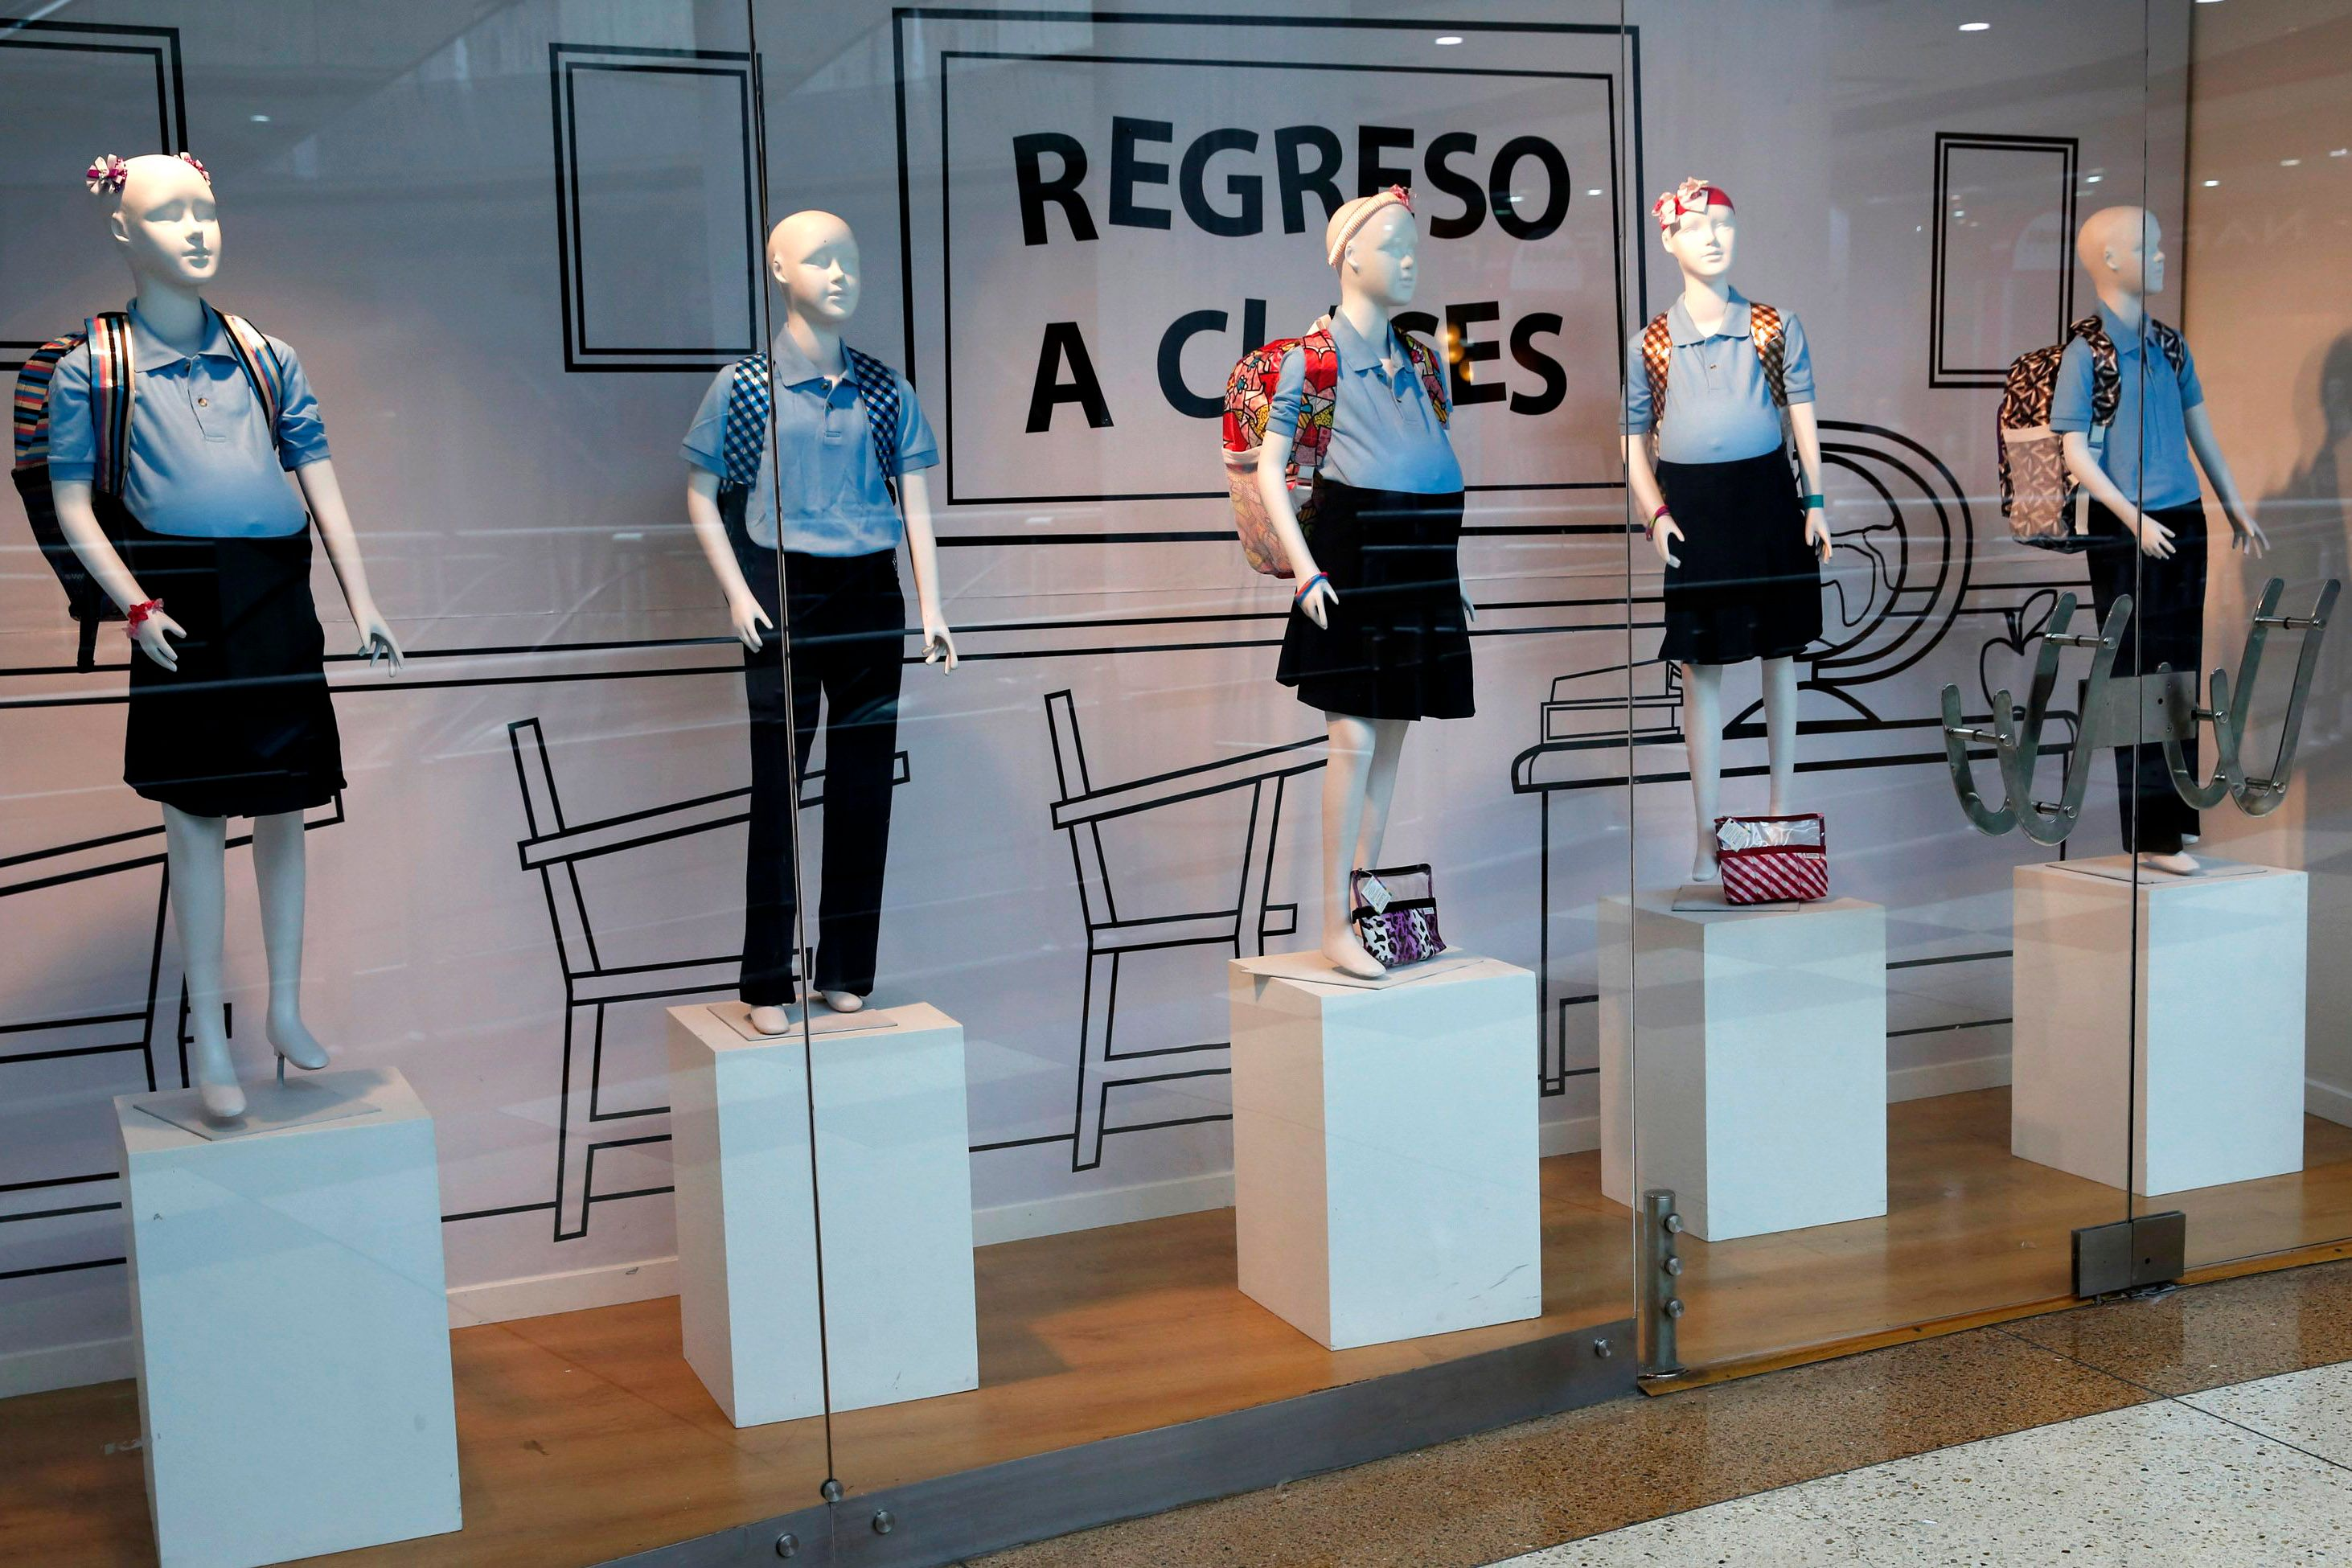person-like: (43, 133, 403, 1129), (681, 199, 963, 1040), (1207, 178, 1482, 988), (1989, 196, 2286, 886), (1605, 164, 1840, 901)
